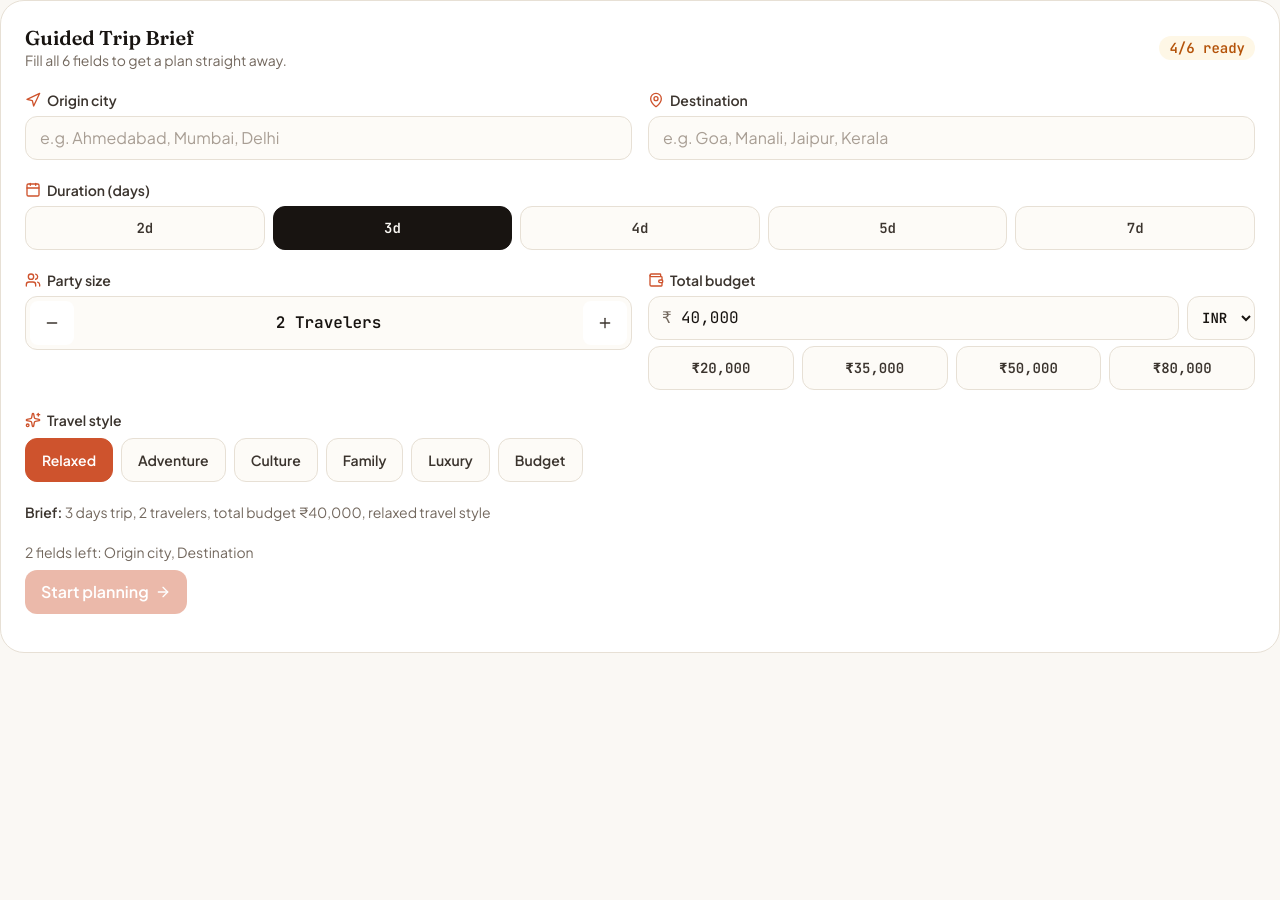
TripBriefBuilder › says which fields are still missing next to the disabled button
Expected: the text "2 fields left: Origin city, Destination" is shown, [25, 543, 254, 561]
Step 1. Type "Pune" into the field labelled "Origin city" → (328, 138), box [25, 116, 632, 160]
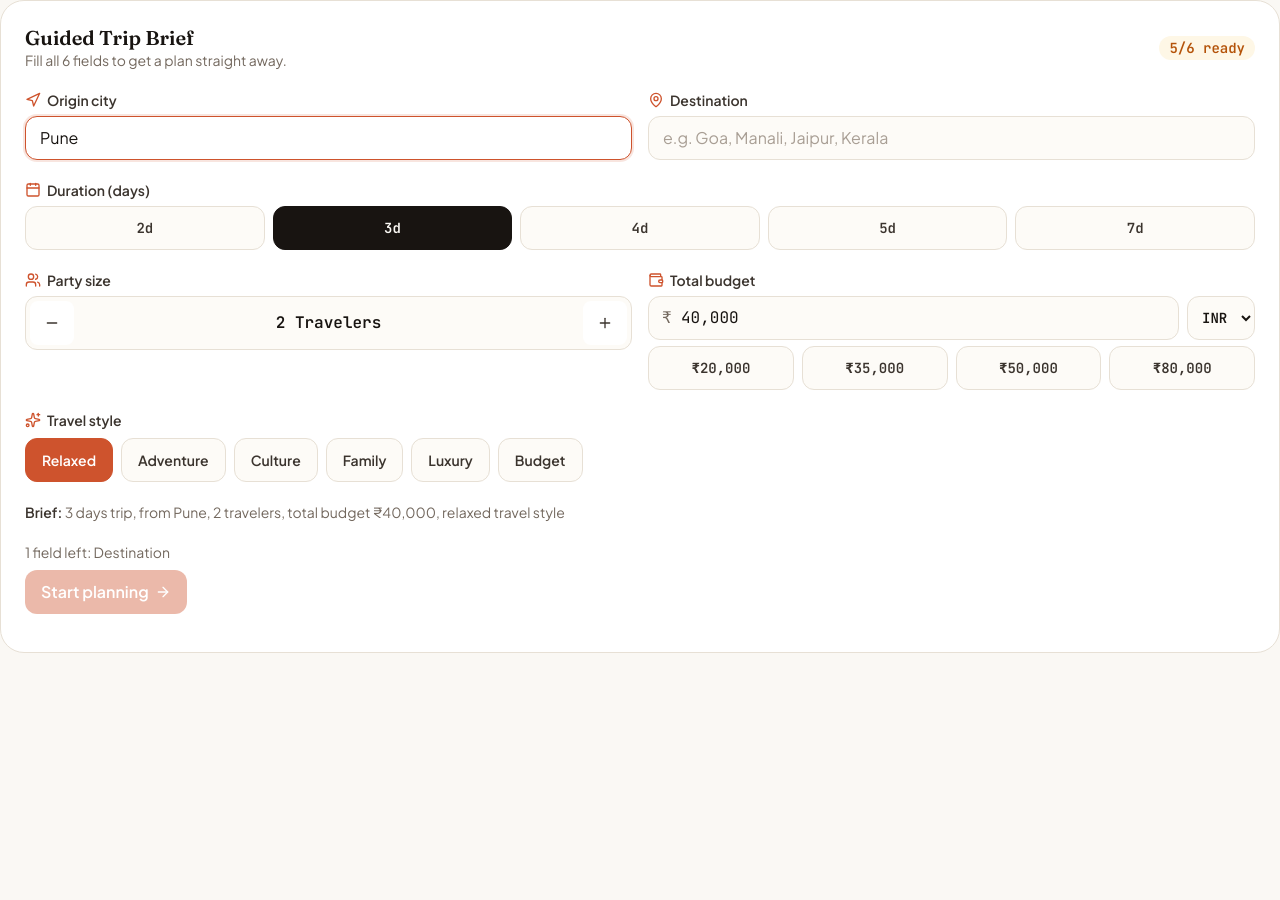
Expected: the text "1 field left: Destination" is shown, [25, 543, 170, 561]
Step 2. Type "Goa" into the field labelled "Destination" → (952, 138), box [648, 116, 1255, 160]
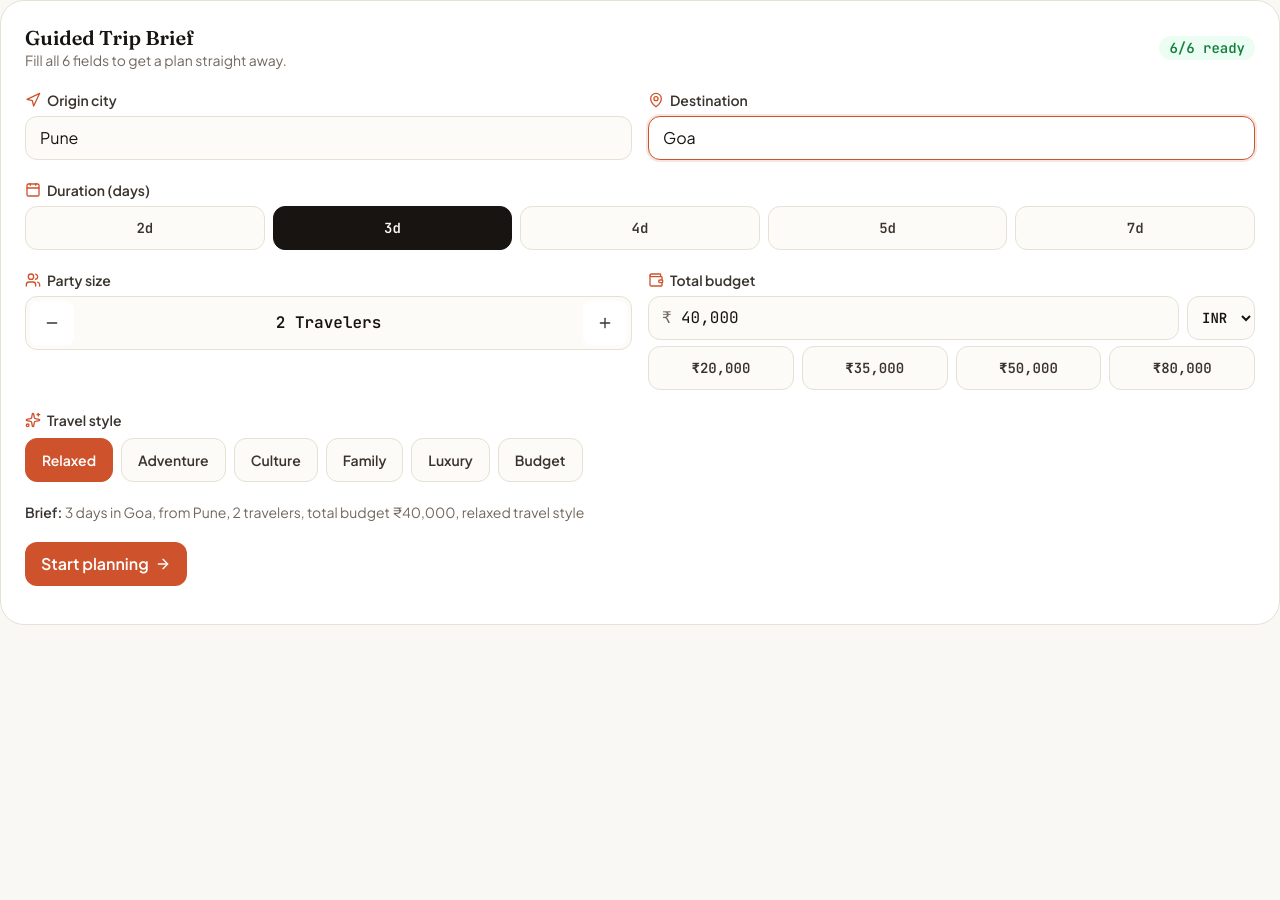
Expected: the text "left:" is gone
